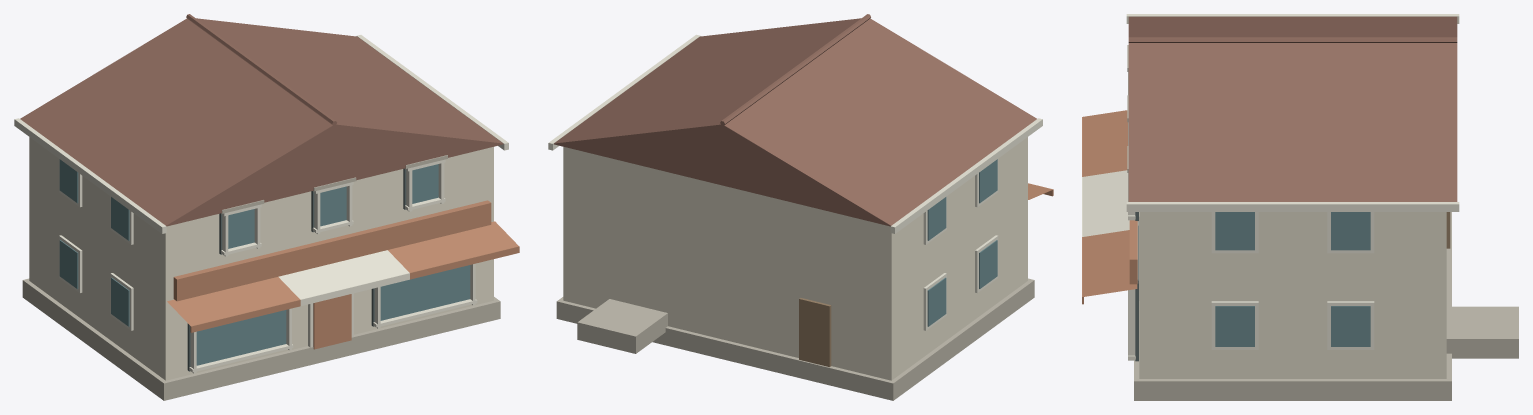
3 views of the same model, side by side, from view 1: azimuth 30°, elevation 25°; view 2: azimuth 150°, elevation 25°; view 3: azimuth 270°, elevation 25° (orthographic). The views are drawn at different scales.
Bounding box in the file's own units: 12.46 × 8.26 × 12.09.
